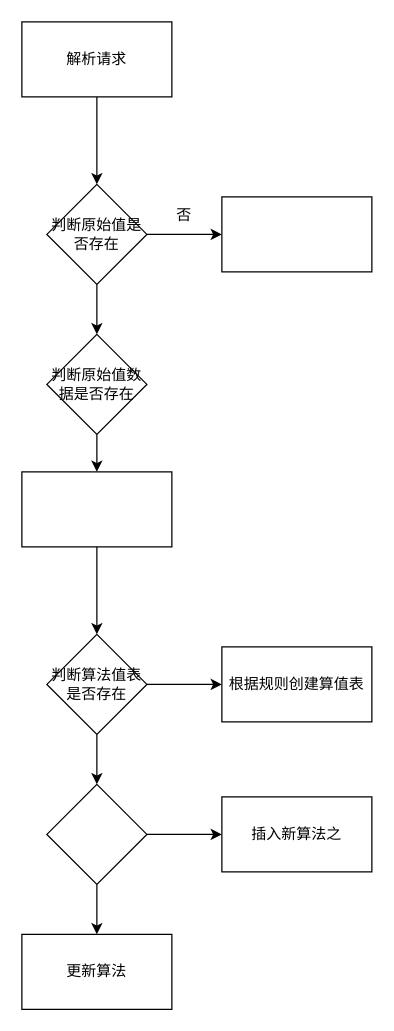
Image size: 394x1031. Some labels were removed from this diagram. Here are the shapes that lost their labels. From the top down, the centre of each, then its label:
At (x=296, y=234): "根据规则创建原始值表".
At (x=96, y=509): "插入原始值数据".
At (x=96, y=833): "判断算法值是否存在".
